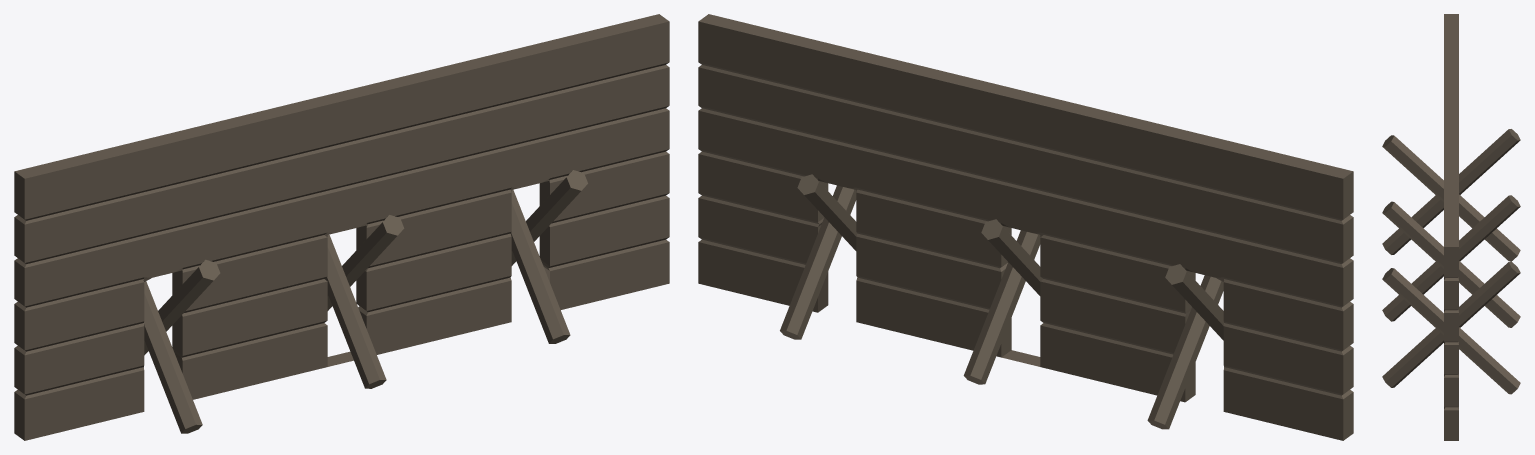
The model's file is Defensive Wall.fbx.
The picture shows the model from 3 angles, left to right: view 1: azimuth 30°, elevation 25°; view 2: azimuth 150°, elevation 25°; view 3: azimuth 270°, elevation 25°; orthographic projection. The views are drawn at different scales.
Visible parts, largest first — view 1: Defensive Wall; view 2: Defensive Wall; view 3: Defensive Wall.
Part boxes in pixels (bbox=[...]): Defensive Wall: bbox=[14, 14, 669, 440]; Defensive Wall: bbox=[698, 14, 1353, 440]; Defensive Wall: bbox=[1382, 14, 1520, 440].
Size of the model in its own units: 548 by 213 by 138.
